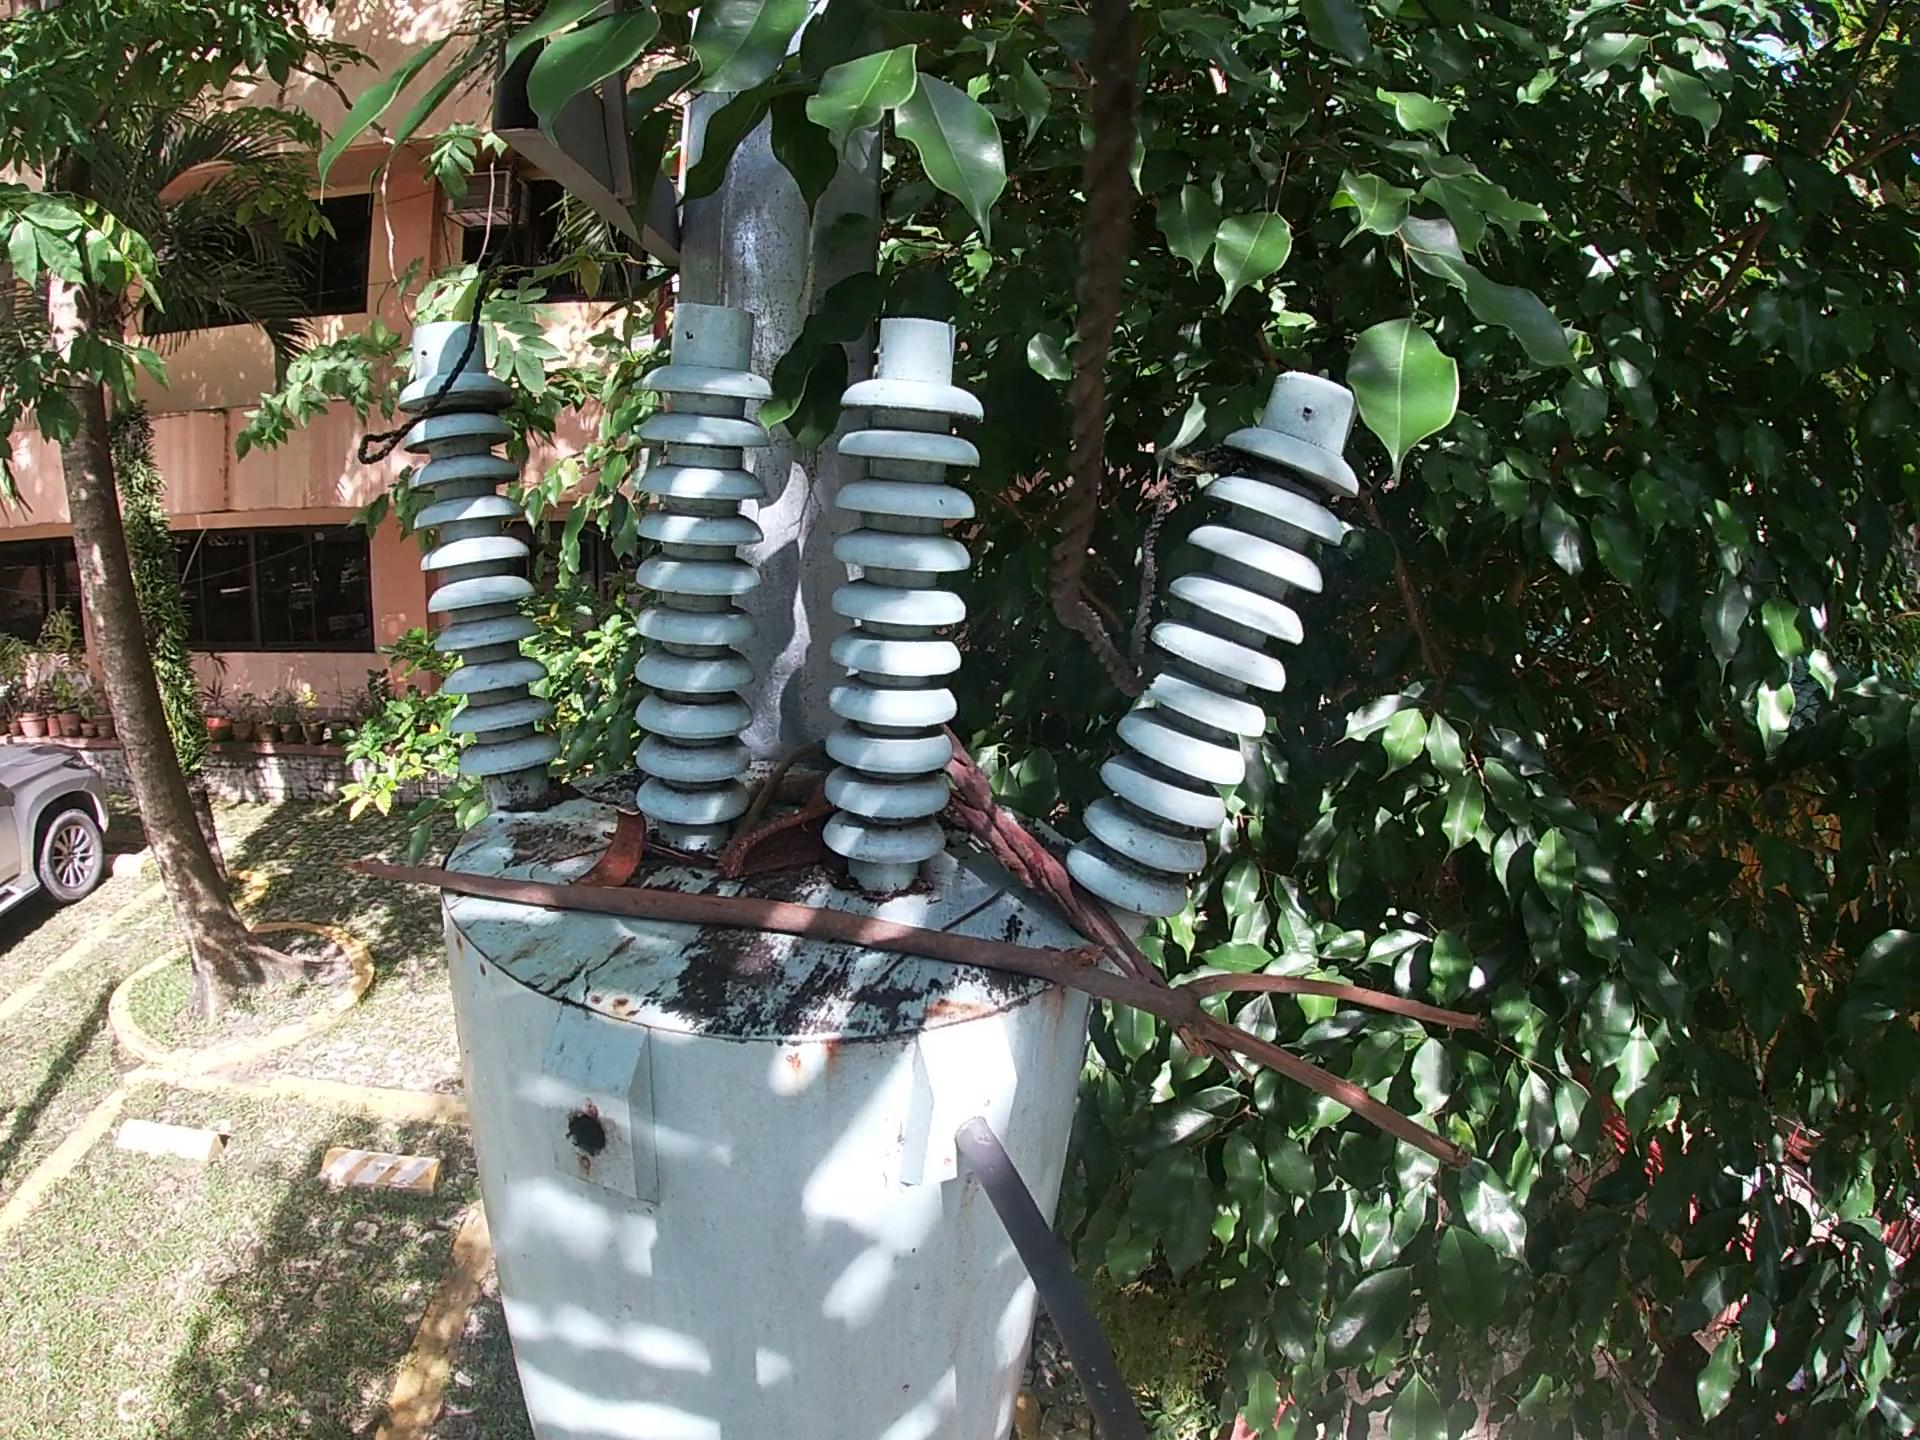mahogany fruit: (718, 803, 847, 886), (565, 802, 664, 894)
tree branch: (349, 852, 1500, 1175), (934, 718, 1253, 1080), (718, 732, 838, 870)
